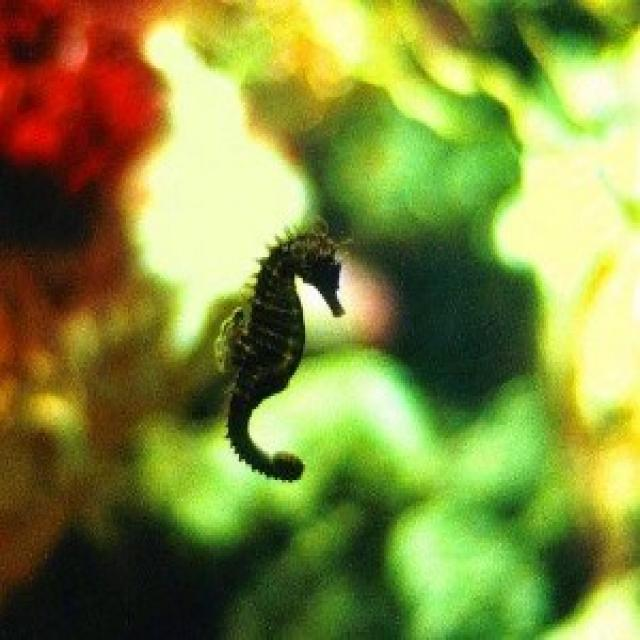Seahorse: (213, 220, 353, 498)
